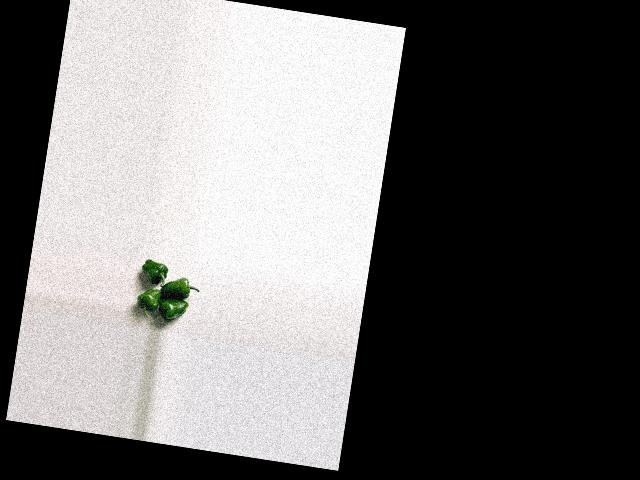bell_pepper: (135, 285, 160, 317)
